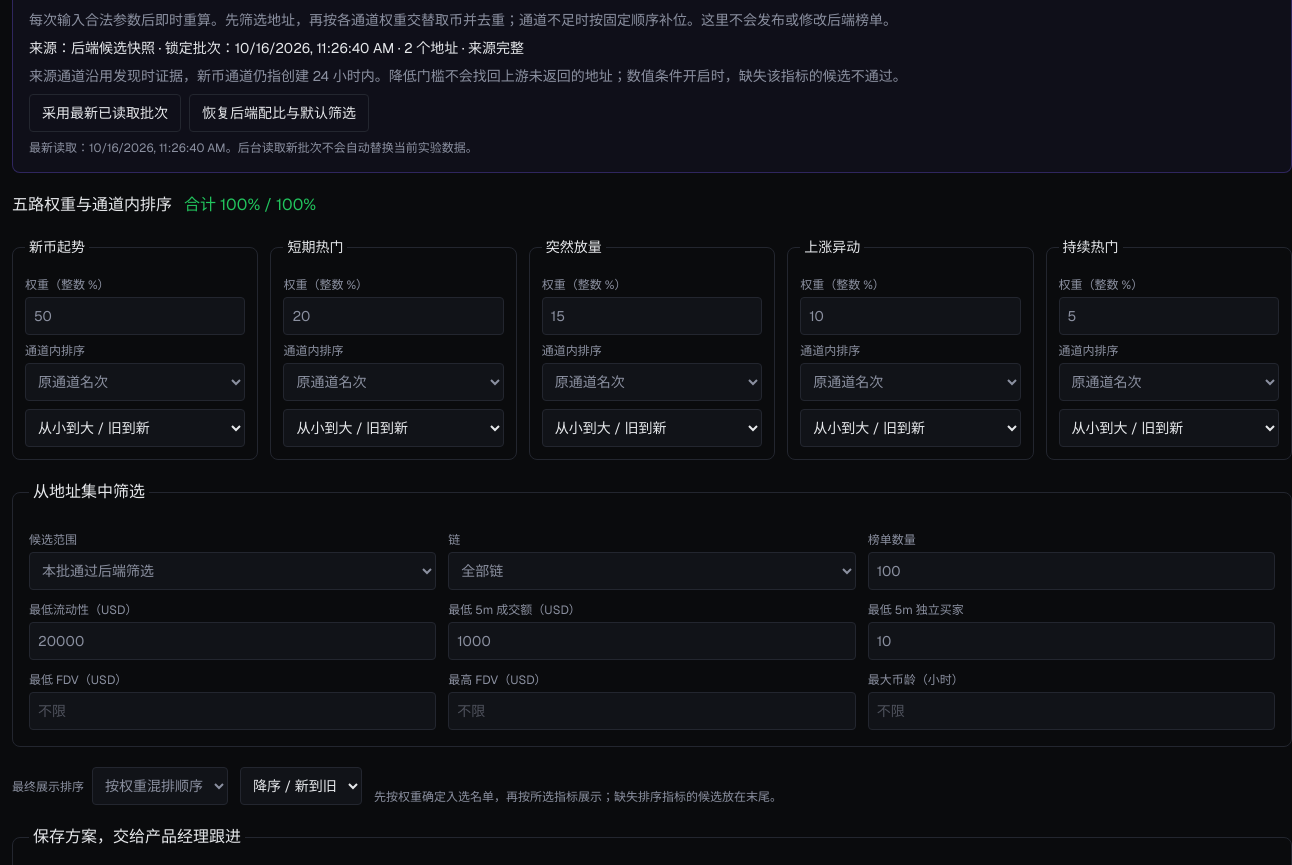
权重输入校验，合法后本地即时预览，不发送请求
Replace the text in the number field named "新币起势权重" with "60" at coordinates (135, 316), box [25, 297, 245, 335]
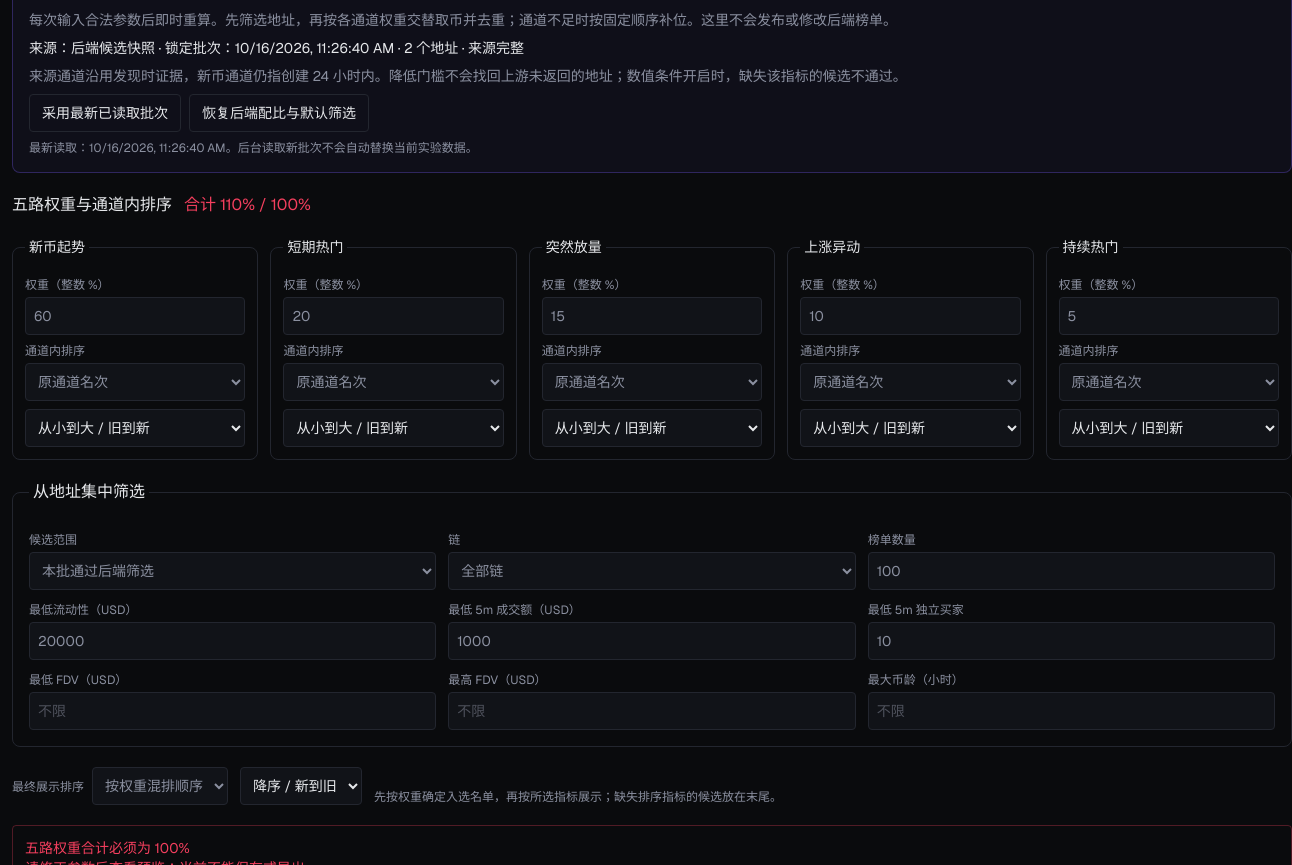
expect the table "模拟榜单" is not shown: met
expect the message shows "100%": met, box [25, 839, 190, 857]
Replace the text in the number field named "短期热门权重" with "10" at coordinates (394, 316), box [283, 297, 504, 335]
(page scrolled)
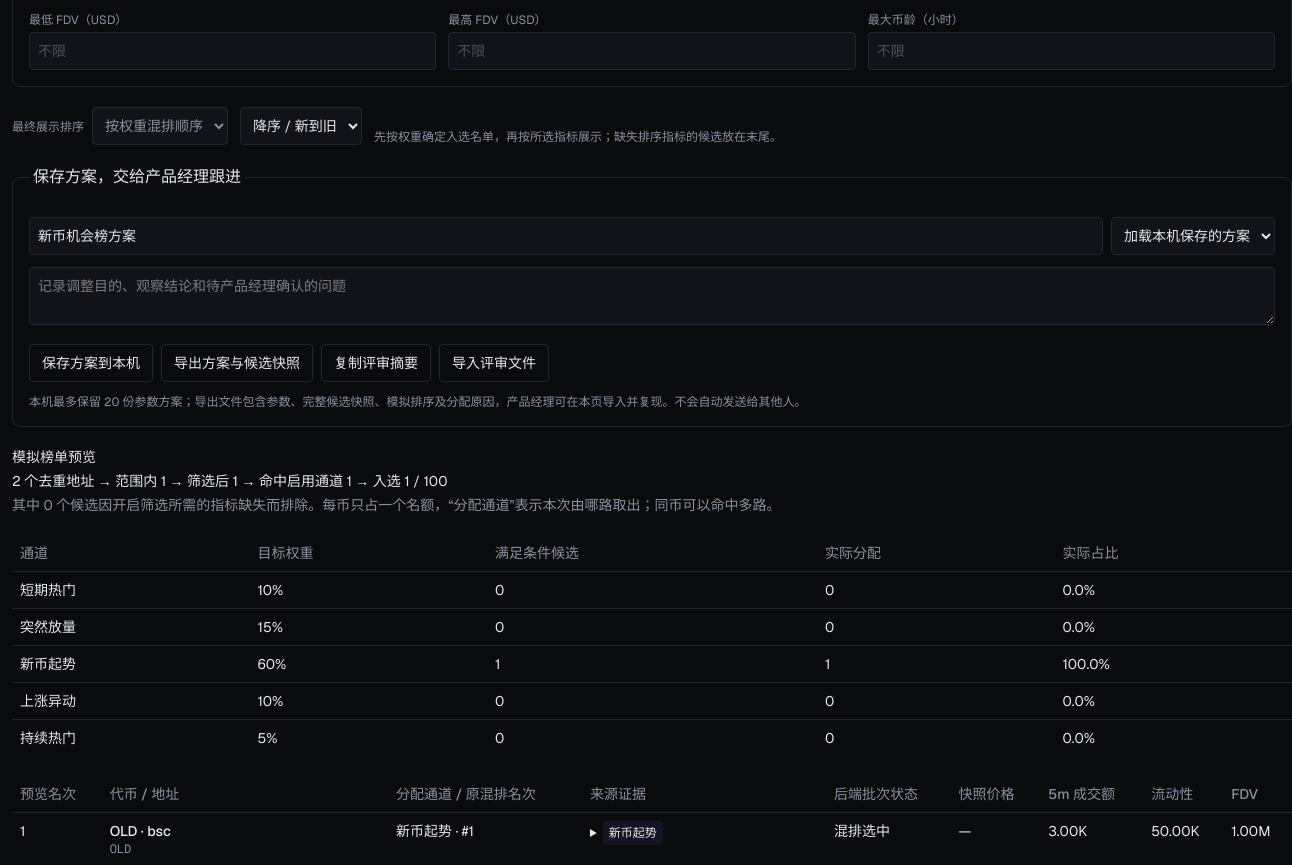
expect the table named "模拟榜单" is shown: met, box [12, 776, 1291, 864]
